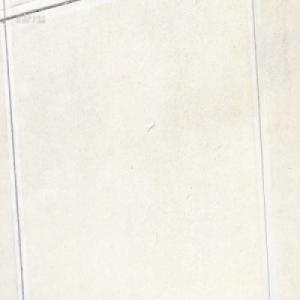Wrench: (146, 121, 155, 131)
